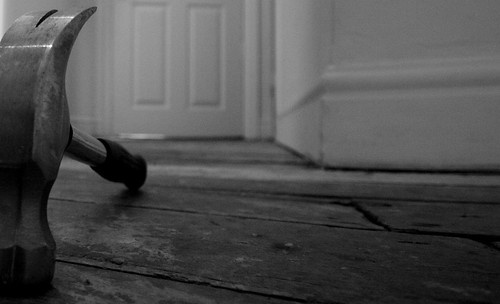hammer: (1, 1, 148, 304)
